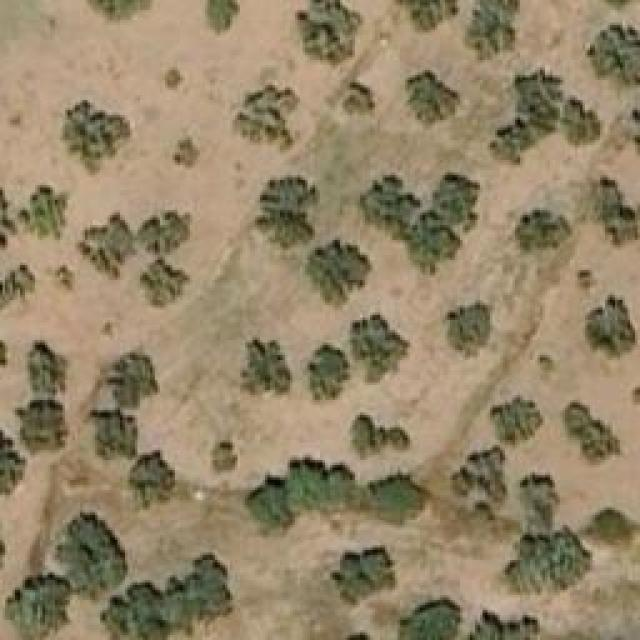Tree: (100, 552, 233, 640), (498, 525, 593, 595), (493, 75, 563, 155), (60, 100, 133, 175), (58, 512, 128, 590), (230, 85, 303, 153), (295, 0, 363, 70), (258, 178, 321, 251), (308, 240, 371, 310), (350, 310, 410, 383), (323, 547, 396, 605), (575, 295, 638, 360), (8, 575, 71, 640), (290, 457, 353, 515), (590, 178, 640, 251), (587, 22, 640, 89), (465, 0, 520, 62), (400, 70, 460, 125), (15, 185, 70, 243), (240, 338, 293, 398), (360, 175, 415, 230), (453, 445, 508, 500), (15, 395, 68, 450), (443, 300, 493, 358), (367, 475, 425, 525), (350, 412, 410, 460), (490, 395, 543, 448), (78, 218, 131, 271), (405, 218, 458, 268), (565, 403, 613, 458), (140, 200, 188, 255), (400, 597, 460, 640), (103, 352, 156, 400), (515, 210, 573, 253), (87, 408, 135, 458), (127, 450, 175, 500), (308, 345, 351, 400), (432, 172, 480, 220), (563, 93, 603, 148), (468, 610, 541, 640), (140, 262, 185, 310), (248, 480, 291, 530), (25, 343, 68, 393), (395, 0, 460, 30), (0, 430, 28, 498), (583, 510, 636, 543), (518, 473, 561, 513), (0, 265, 35, 313), (87, 0, 155, 20), (202, 0, 237, 32), (343, 85, 376, 115), (172, 138, 200, 171), (45, 265, 75, 295), (213, 443, 238, 476), (537, 355, 555, 383), (165, 68, 185, 88), (578, 270, 598, 290)
